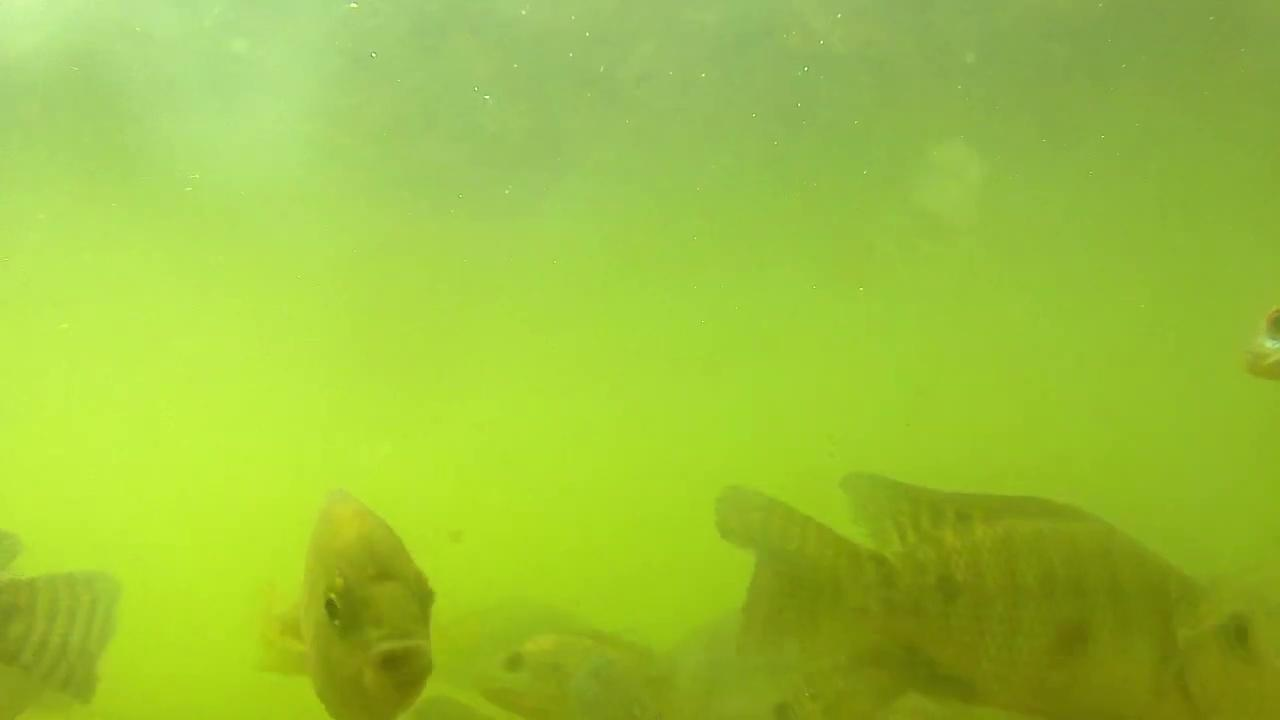Tilapia: (711, 470, 1280, 720), (275, 492, 438, 720), (471, 628, 672, 720)
